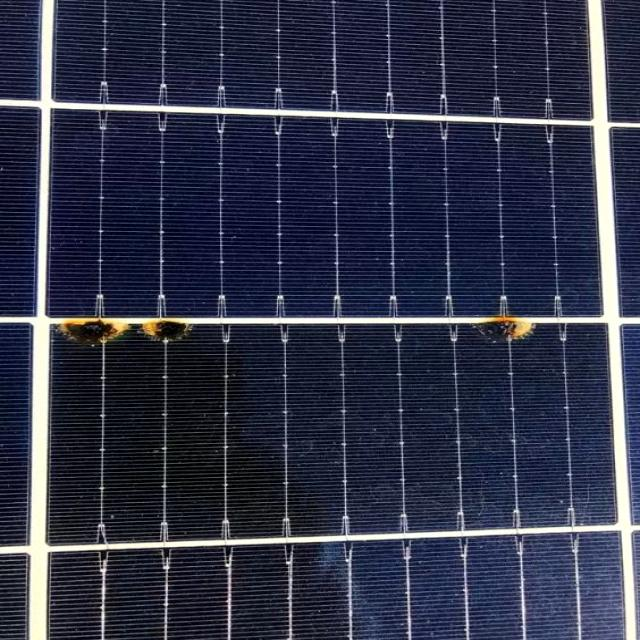shadow: (41, 304, 220, 364), (446, 290, 558, 366)
